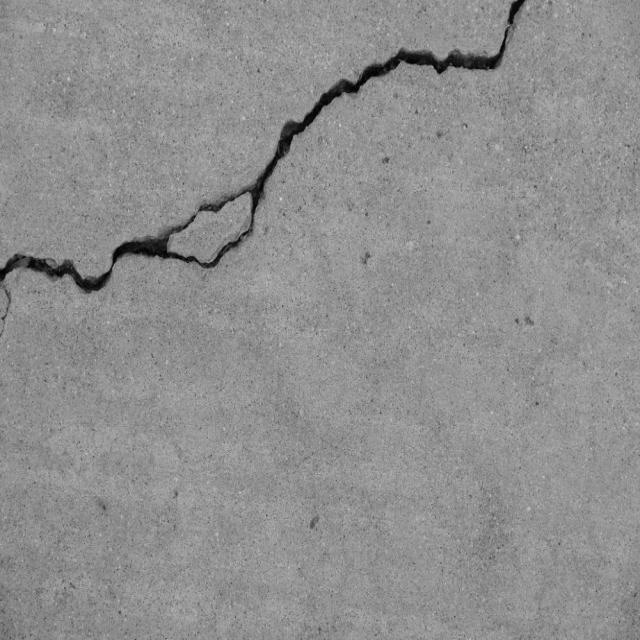Wall_Cracks: (3, 1, 557, 394)
